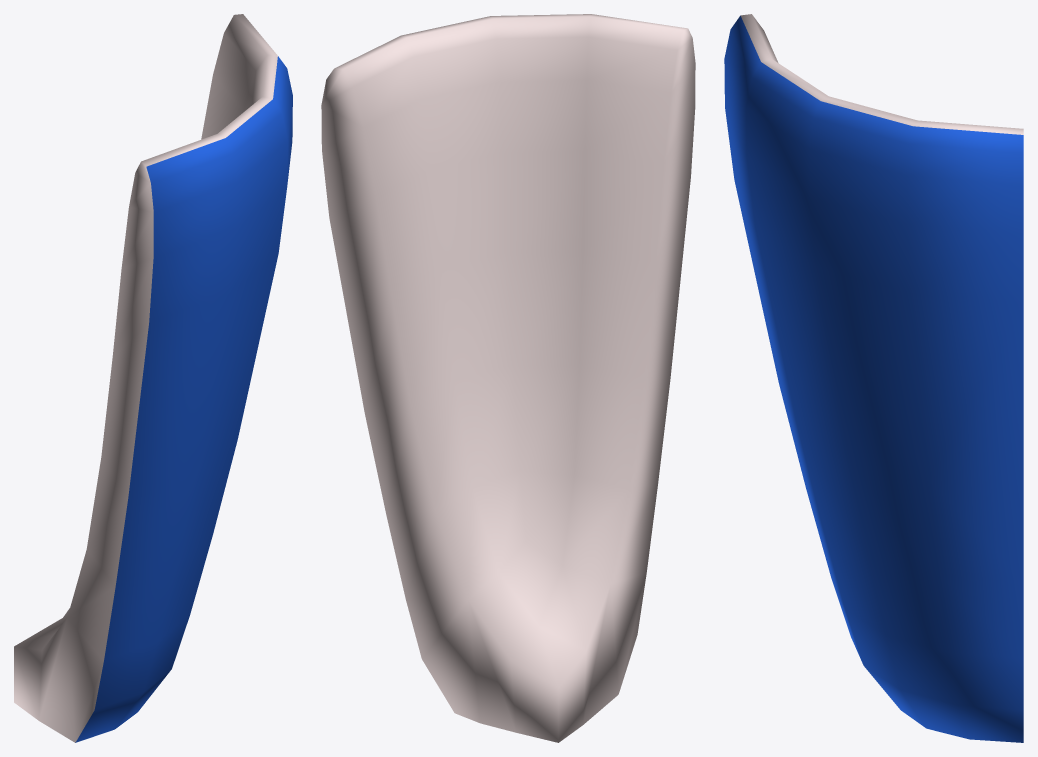
File: Cup01_Part04.fbx
3 views of the same model, side by side, from view 1: azimuth 30°, elevation 25°; view 2: azimuth 150°, elevation 25°; view 3: azimuth 270°, elevation 25° (orthographic). The views are drawn at different scales.
Visible parts, largest first — view 1: Cup01_Part_04; view 2: Cup01_Part_04; view 3: Cup01_Part_04.
Boxes of the visible parts, left/top/right/bottom form: Cup01_Part_04: left=14, top=14, right=292, bottom=742; Cup01_Part_04: left=321, top=14, right=695, bottom=742; Cup01_Part_04: left=724, top=14, right=1023, bottom=742.
Size of the model in its own units: 157 by 392 by 157.
